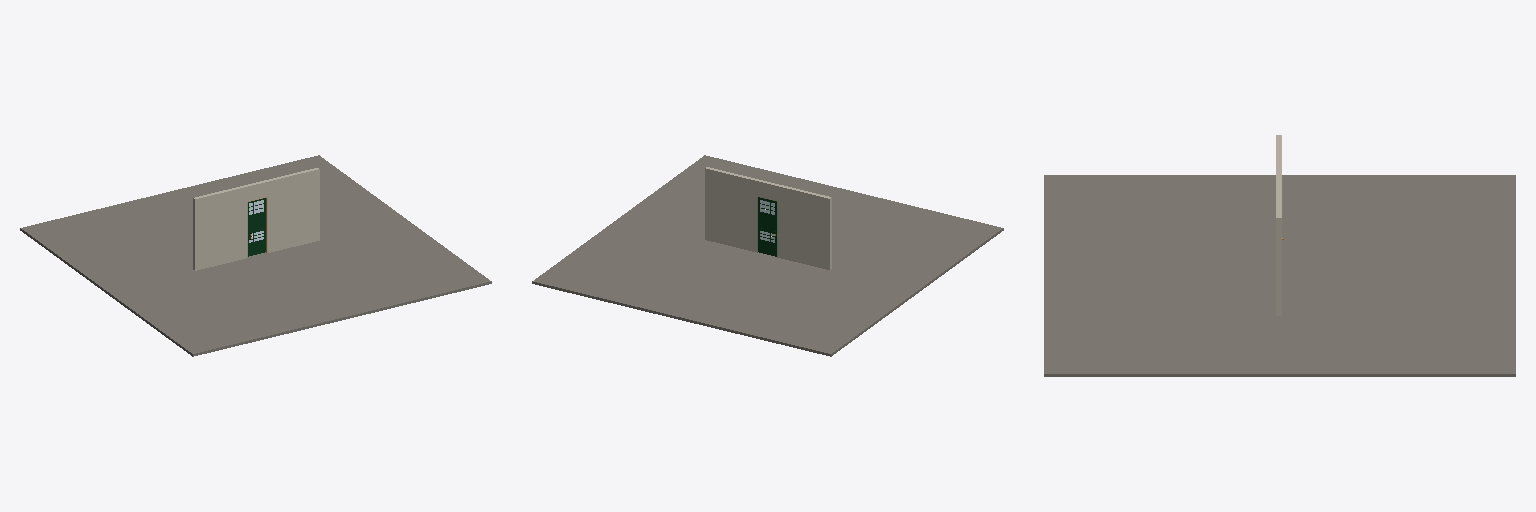
The robot description file, URDF, robot "db0906_dutch_minimal":
<?xml version="1.0" ?>
<robot xmlns:doorbench="https://github.com/adamraudonis/DoorBench/schema/urdf-ext" name="db0906_dutch_minimal">
  <link name="world_env">
    <visual name="floor_vis">
      <origin xyz="0 0 -0.05" rpy="0 0 0"/>
      <geometry>
        <box size="12 12 0.1"/>
      </geometry>
      <material name="mat_floor"/>
    </visual>
    <collision name="floor_col">
      <origin xyz="0 0 -0.05" rpy="0 0 0"/>
      <geometry>
        <box size="12 12 0.1"/>
      </geometry>
    </collision>
    <visual name="wall_left_vis">
      <origin xyz="-1.467 -0.0305 1.3735" rpy="0 0 0"/>
      <geometry>
        <box size="2.066 0.145 2.747"/>
      </geometry>
      <material name="mat_wall"/>
    </visual>
    <collision name="wall_left_col">
      <origin xyz="-1.467 -0.0305 1.3735" rpy="0 0 0"/>
      <geometry>
        <box size="2.066 0.145 2.747"/>
      </geometry>
    </collision>
    <visual name="wall_right_vis">
      <origin xyz="1.452 -0.0305 1.3735" rpy="0 0 0"/>
      <geometry>
        <box size="2.096 0.145 2.747"/>
      </geometry>
      <material name="mat_wall"/>
    </visual>
    <collision name="wall_right_col">
      <origin xyz="1.452 -0.0305 1.3735" rpy="0 0 0"/>
      <geometry>
        <box size="2.096 0.145 2.747"/>
      </geometry>
    </collision>
    <visual name="wall_header_vis">
      <origin xyz="-0.015 -0.0305 2.4715" rpy="0 0 0"/>
      <geometry>
        <box size="0.838 0.145 0.551"/>
      </geometry>
      <material name="mat_wall"/>
    </visual>
    <collision name="wall_header_col">
      <origin xyz="-0.015 -0.0305 2.4715" rpy="0 0 0"/>
      <geometry>
        <box size="0.838 0.145 0.551"/>
      </geometry>
    </collision>
    <visual name="jamb_hinge_vis">
      <origin xyz="0.3945 -0.0305 1.0735" rpy="0 0 0"/>
      <geometry>
        <box size="0.019 0.145 2.147"/>
      </geometry>
      <material name="mat_frame"/>
    </visual>
    <collision name="jamb_hinge_col">
      <origin xyz="0.3945 -0.0305 1.0735" rpy="0 0 0"/>
      <geometry>
        <box size="0.019 0.145 2.147"/>
      </geometry>
    </collision>
    <visual name="strike_840_wall_n_vis">
      <origin xyz="-0.4095 -0.055425 0.84" rpy="0 0 0"/>
      <geometry>
        <box size="0.049 0.09515 0.0334"/>
      </geometry>
      <material name="mat_frame"/>
    </visual>
    <collision name="strike_840_wall_n_col">
      <origin xyz="-0.4095 -0.055425 0.84" rpy="0 0 0"/>
      <geometry>
        <box size="0.049 0.09515 0.0334"/>
      </geometry>
    </collision>
    <visual name="strike_840_wall_p_vis">
      <origin xyz="-0.4095 0.01585 0.84" rpy="0 0 0"/>
      <geometry>
        <box size="0.049 0.016 0.0334"/>
      </geometry>
      <material name="mat_frame"/>
    </visual>
    <collision name="strike_840_wall_p_col">
      <origin xyz="-0.4095 0.01585 0.84" rpy="0 0 0"/>
      <geometry>
        <box size="0.049 0.016 0.0334"/>
      </geometry>
    </collision>
    <visual name="strike_840_ramp_vis">
      <origin xyz="-0.414908 0.034645 0.84" rpy="0 0 0.344766"/>
      <geometry>
        <box size="0.049 0.040535 0.0334"/>
      </geometry>
      <material name="mat_frame"/>
    </visual>
    <collision name="strike_840_ramp_col">
      <origin xyz="-0.414908 0.034645 0.84" rpy="0 0 0.344766"/>
      <geometry>
        <box size="0.049 0.040535 0.0334"/>
      </geometry>
    </collision>
    <visual name="strike_840_back_vis">
      <origin xyz="-0.41785 0 0.84" rpy="0 0 0"/>
      <geometry>
        <box size="0.0323 0.0157 0.0334"/>
      </geometry>
      <material name="mat_frame"/>
    </visual>
    <collision name="strike_840_back_col">
      <origin xyz="-0.41785 0 0.84" rpy="0 0 0"/>
      <geometry>
        <box size="0.0323 0.0157 0.0334"/>
      </geometry>
    </collision>
    <visual name="strike_1547_wall_n_vis">
      <origin xyz="-0.4095 -0.05525 1.547" rpy="0 0 0"/>
      <geometry>
        <box size="0.049 0.0955 0.02"/>
      </geometry>
      <material name="mat_frame"/>
    </visual>
    <collision name="strike_1547_wall_n_col">
      <origin xyz="-0.4095 -0.05525 1.547" rpy="0 0 0"/>
      <geometry>
        <box size="0.049 0.0955 0.02"/>
      </geometry>
    </collision>
    <visual name="strike_1547_wall_p_vis">
      <origin xyz="-0.4095 0.0155 1.547" rpy="0 0 0"/>
      <geometry>
        <box size="0.049 0.016 0.02"/>
      </geometry>
      <material name="mat_frame"/>
    </visual>
    <collision name="strike_1547_wall_p_col">
      <origin xyz="-0.4095 0.0155 1.547" rpy="0 0 0"/>
      <geometry>
        <box size="0.049 0.016 0.02"/>
      </geometry>
    </collision>
    <visual name="strike_1547_ramp_vis">
      <origin xyz="-0.411796 0.039595 1.547" rpy="0 0 0.129147"/>
      <geometry>
        <box size="0.049 0.038823 0.02"/>
      </geometry>
      <material name="mat_frame"/>
    </visual>
    <collision name="strike_1547_ramp_col">
      <origin xyz="-0.411796 0.039595 1.547" rpy="0 0 0.129147"/>
      <geometry>
        <box size="0.049 0.038823 0.02"/>
      </geometry>
    </collision>
    <visual name="strike_1547_ramp_n_vis">
      <origin xyz="-0.411796 -0.027595 1.547" rpy="0 0 -0.129147"/>
      <geometry>
        <box size="0.049 0.038823 0.02"/>
      </geometry>
      <material name="mat_frame"/>
    </visual>
    <collision name="strike_1547_ramp_n_col">
      <origin xyz="-0.411796 -0.027595 1.547" rpy="0 0 -0.129147"/>
      <geometry>
        <box size="0.049 0.038823 0.02"/>
      </geometry>
    </collision>
    <visual name="strike_1547_back_vis">
      <origin xyz="-0.4135 0 1.547" rpy="0 0 0"/>
      <geometry>
        <box size="0.041 0.015 0.02"/>
      </geometry>
      <material name="mat_frame"/>
    </visual>
    <collision name="strike_1547_back_col">
      <origin xyz="-0.4135 0 1.547" rpy="0 0 0"/>
      <geometry>
        <box size="0.041 0.015 0.02"/>
      </geometry>
    </collision>
    <visual name="jamb_strike_0_vis">
      <origin xyz="-0.4095 -0.0305 0.41165" rpy="0 0 0"/>
      <geometry>
        <box size="0.049 0.145 0.8233"/>
      </geometry>
      <material name="mat_frame"/>
    </visual>
    <collision name="jamb_strike_0_col">
      <origin xyz="-0.4095 -0.0305 0.41165" rpy="0 0 0"/>
      <geometry>
        <box size="0.049 0.145 0.8233"/>
      </geometry>
    </collision>
    <visual name="jamb_strike_1_vis">
      <origin xyz="-0.4095 -0.0305 1.19685" rpy="0 0 0"/>
      <geometry>
        <box size="0.049 0.145 0.6803"/>
      </geometry>
      <material name="mat_frame"/>
    </visual>
    <collision name="jamb_strike_1_col">
      <origin xyz="-0.4095 -0.0305 1.19685" rpy="0 0 0"/>
      <geometry>
        <box size="0.049 0.145 0.6803"/>
      </geometry>
    </collision>
    <visual name="jamb_strike_2_vis">
      <origin xyz="-0.4095 -0.0305 1.852" rpy="0 0 0"/>
      <geometry>
        <box size="0.049 0.145 0.59"/>
      </geometry>
      <material name="mat_frame"/>
    </visual>
    <collision name="jamb_strike_2_col">
      <origin xyz="-0.4095 -0.0305 1.852" rpy="0 0 0"/>
      <geometry>
        <box size="0.049 0.145 0.59"/>
      </geometry>
    </collision>
    <visual name="jamb_head_vis">
      <origin xyz="-0.015 -0.0305 2.1565" rpy="0 0 0"/>
      <geometry>
        <box size="0.838 0.145 0.019"/>
      </geometry>
      <material name="mat_frame"/>
    </visual>
    <collision name="jamb_head_col">
      <origin xyz="-0.015 -0.0305 2.1565" rpy="0 0 0"/>
      <geometry>
        <box size="0.838 0.145 0.019"/>
      </geometry>
    </collision>
    <visual name="head_stud_vis">
      <origin xyz="-0.015 -0.0305 2.181" rpy="0 0 0"/>
      <geometry>
        <box size="0.838 0.145 0.03"/>
      </geometry>
      <material name="mat_wall"/>
    </visual>
    <collision name="head_stud_col">
      <origin xyz="-0.015 -0.0305 2.181" rpy="0 0 0"/>
      <geometry>
        <box size="0.838 0.145 0.03"/>
      </geometry>
    </collision>
    <visual name="stop_hinge_vis">
      <origin xyz="0.3795 -0.0385 1.0735" rpy="0 0 0"/>
      <geometry>
        <box size="0.011 0.032 2.147"/>
      </geometry>
      <material name="mat_frame"/>
    </visual>
    <collision name="stop_hinge_col">
      <origin xyz="0.3795 -0.0385 1.0735" rpy="0 0 0"/>
      <geometry>
        <box size="0.011 0.032 2.147"/>
      </geometry>
    </collision>
    <visual name="stop_strike_vis">
      <origin xyz="-0.3795 -0.0385 1.0735" rpy="0 0 0"/>
      <geometry>
        <box size="0.011 0.032 2.147"/>
      </geometry>
      <material name="mat_frame"/>
    </visual>
    <collision name="stop_strike_col">
      <origin xyz="-0.3795 -0.0385 1.0735" rpy="0 0 0"/>
      <geometry>
        <box size="0.011 0.032 2.147"/>
      </geometry>
    </collision>
    <visual name="stop_head_vis">
      <origin xyz="0 -0.0385 2.1415" rpy="0 0 0"/>
      <geometry>
        <box size="0.77 0.032 0.011"/>
      </geometry>
      <material name="mat_frame"/>
    </visual>
    <collision name="stop_head_col">
      <origin xyz="0 -0.0385 2.1415" rpy="0 0 0"/>
      <geometry>
        <box size="0.77 0.032 0.011"/>
      </geometry>
    </collision>
  </link>
  <link name="leaf_lower">
    <inertial>
      <origin xyz="-0.646765 -0.077415 0.770389" rpy="0 0 0"/>
      <mass value="9.688186"/>
      <inertia ixx="0.116427819" ixy="-0.004800581" ixz="0.024746982" iyy="0.15487624" iyz="0.00450822" izz="0.052817034"/>
    </inertial>
    <visual name="leaf_lower_slab_vis">
      <origin xyz="-0.381 -0.029 0.484" rpy="0 0 0"/>
      <geometry>
        <box size="0.762 0.044 0.944"/>
      </geometry>
      <material name="mat_leaf_lower"/>
    </visual>
    <collision name="leaf_lower_slab_col">
      <origin xyz="-0.381 -0.029 0.484" rpy="0 0 0"/>
      <geometry>
        <box size="0.762 0.044 0.944"/>
      </geometry>
    </collision>
    <visual name="leaf_lower_glass_0_vis">
      <origin xyz="-0.177 -0.029 0.575167" rpy="0 0 0"/>
      <geometry>
        <box size="0.174 0.0456 0.092333"/>
      </geometry>
      <material name="mat_glass"/>
    </visual>
    <visual name="leaf_lower_glass_1_vis">
      <origin xyz="-0.381 -0.029 0.575167" rpy="0 0 0"/>
      <geometry>
        <box size="0.174 0.0456 0.092333"/>
      </geometry>
      <material name="mat_glass"/>
    </visual>
    <visual name="leaf_lower_glass_2_vis">
      <origin xyz="-0.585 -0.029 0.575167" rpy="0 0 0"/>
      <geometry>
        <box size="0.174 0.0456 0.092333"/>
      </geometry>
      <material name="mat_glass"/>
    </visual>
    <visual name="leaf_lower_glass_3_vis">
      <origin xyz="-0.177 -0.029 0.6975" rpy="0 0 0"/>
      <geometry>
        <box size="0.174 0.0456 0.092333"/>
      </geometry>
      <material name="mat_glass"/>
    </visual>
    <visual name="leaf_lower_glass_4_vis">
      <origin xyz="-0.381 -0.029 0.6975" rpy="0 0 0"/>
      <geometry>
        <box size="0.174 0.0456 0.092333"/>
      </geometry>
      <material name="mat_glass"/>
    </visual>
    <visual name="leaf_lower_glass_5_vis">
      <origin xyz="-0.585 -0.029 0.6975" rpy="0 0 0"/>
      <geometry>
        <box size="0.174 0.0456 0.092333"/>
      </geometry>
      <material name="mat_glass"/>
    </visual>
    <visual name="leaf_lower_glass_6_vis">
      <origin xyz="-0.177 -0.029 0.819833" rpy="0 0 0"/>
      <geometry>
        <box size="0.174 0.0456 0.092333"/>
      </geometry>
      <material name="mat_glass"/>
    </visual>
    <visual name="leaf_lower_glass_7_vis">
      <origin xyz="-0.381 -0.029 0.819833" rpy="0 0 0"/>
      <geometry>
        <box size="0.174 0.0456 0.092333"/>
      </geometry>
      <material name="mat_glass"/>
    </visual>
    <visual name="leaf_lower_glass_8_vis">
      <origin xyz="-0.585 -0.029 0.819833" rpy="0 0 0"/>
      <geometry>
        <box size="0.174 0.0456 0.092333"/>
      </geometry>
      <material name="mat_glass"/>
    </visual>
    <visual name="lower_handleset_n_vis">
      <origin xyz="-0.657 -0.051 0.78" rpy="1.570796 0 0"/>
      <geometry>
        <mesh filename="../../hardware/handleset_beb5526ad2.obj"/>
      </geometry>
      <material name="mat_op_bronze"/>
    </visual>
    <collision name="lower_handleset_col_n_col">
      <origin xyz="-0.657 -0.111 0.78" rpy="0 0 0"/>
      <geometry>
        <cylinder radius="0.011" length="0.18"/>
      </geometry>
    </collision>
  </link>
  <link name="leaf_upper">
    <inertial>
      <origin xyz="-0.381 -0.029 1.600668" rpy="0 0 0"/>
      <mass value="12.177372"/>
      <inertia ixx="1.305719445" ixy="0" ixz="0" iyy="1.850728325" iyz="0" izz="0.548993791"/>
    </inertial>
    <visual name="leaf_upper_slab_vis">
      <origin xyz="-0.381 -0.029 1.549" rpy="0 0 0"/>
      <geometry>
        <box size="0.762 0.044 1.17"/>
      </geometry>
      <material name="mat_leaf_upper"/>
    </visual>
    <collision name="leaf_upper_slab_col">
      <origin xyz="-0.381 -0.029 1.549" rpy="0 0 0"/>
      <geometry>
        <box size="0.762 0.044 1.17"/>
      </geometry>
    </collision>
    <visual name="leaf_upper_glass_0_vis">
      <origin xyz="-0.177 -0.029 1.659" rpy="0 0 0"/>
      <geometry>
        <box size="0.174 0.0456 0.13"/>
      </geometry>
      <material name="mat_glass"/>
    </visual>
    <visual name="leaf_upper_glass_1_vis">
      <origin xyz="-0.381 -0.029 1.659" rpy="0 0 0"/>
      <geometry>
        <box size="0.174 0.0456 0.13"/>
      </geometry>
      <material name="mat_glass"/>
    </visual>
    <visual name="leaf_upper_glass_2_vis">
      <origin xyz="-0.585 -0.029 1.659" rpy="0 0 0"/>
      <geometry>
        <box size="0.174 0.0456 0.13"/>
      </geometry>
      <material name="mat_glass"/>
    </visual>
    <visual name="leaf_upper_glass_3_vis">
      <origin xyz="-0.177 -0.029 1.819" rpy="0 0 0"/>
      <geometry>
        <box size="0.174 0.0456 0.13"/>
      </geometry>
      <material name="mat_glass"/>
    </visual>
    <visual name="leaf_upper_glass_4_vis">
      <origin xyz="-0.381 -0.029 1.819" rpy="0 0 0"/>
      <geometry>
        <box size="0.174 0.0456 0.13"/>
      </geometry>
      <material name="mat_glass"/>
    </visual>
    <visual name="leaf_upper_glass_5_vis">
      <origin xyz="-0.585 -0.029 1.819" rpy="0 0 0"/>
      <geometry>
        <box size="0.174 0.0456 0.13"/>
      </geometry>
      <material name="mat_glass"/>
    </visual>
    <visual name="leaf_upper_glass_6_vis">
      <origin xyz="-0.177 -0.029 1.979" rpy="0 0 0"/>
      <geometry>
        <box size="0.174 0.0456 0.13"/>
      </geometry>
      <material name="mat_glass"/>
    </visual>
    <visual name="leaf_upper_glass_7_vis">
      <origin xyz="-0.381 -0.029 1.979" rpy="0 0 0"/>
      <geometry>
        <box size="0.174 0.0456 0.13"/>
      </geometry>
      <material name="mat_glass"/>
    </visual>
    <visual name="leaf_upper_glass_8_vis">
      <origin xyz="-0.585 -0.029 1.979" rpy="0 0 0"/>
      <geometry>
        <box size="0.174 0.0456 0.13"/>
      </geometry>
      <material name="mat_glass"/>
    </visual>
  </link>
  <link name="lower_handle">
    <inertial>
      <origin xyz="0 0.058082 0" rpy="0 0 0"/>
      <mass value="0.549341"/>
      <inertia ixx="0.000270874" ixy="0" ixz="0" iyy="0.000155778" iyz="0" izz="0.000270874"/>
    </inertial>
    <visual name="lower_handle_knob_p_vis">
      <origin xyz="0 0.022 0" rpy="1.570796 0 3.141593"/>
      <geometry>
        <mesh filename="../../hardware/knob_d1888f6f03.obj"/>
      </geometry>
      <material name="mat_op_brass"/>
    </visual>
    <visual name="lower_handle_knob_col_p_vis">
      <origin xyz="0 0.0685 0" rpy="0 0 0"/>
      <geometry>
        <sphere radius="0.0243"/>
      </geometry>
      <material name="mat_op_brass"/>
    </visual>
    <collision name="lower_handle_knob_col_p_col">
      <origin xyz="0 0.0685 0" rpy="0 0 0"/>
      <geometry>
        <sphere radius="0.0243"/>
      </geometry>
    </collision>
    <collision name="lower_handle_knob_neck_p_col">
      <origin xyz="0 0.034 0" rpy="-1.570796 0 0"/>
      <geometry>
        <cylinder radius="0.011" length="0.024"/>
      </geometry>
    </collision>
  </link>
  <link name="lower_latch_bolt">
    <inertial>
      <origin xyz="0.00865 0 0" rpy="0 0 0"/>
      <mass value="0.041419"/>
      <inertia ixx="0.000000798" ixy="0" ixz="0" iyy="0.000005598" iyz="0" izz="0.000005598"/>
    </inertial>
    <visual name="lower_latch_bolt_capsule_vis">
      <origin xyz="0.00865 0 0" rpy="0 -1.570796 0"/>
      <geometry>
        <cylinder radius="0.00635" length="0.03"/>
      </geometry>
      <material name="mat_bolt"/>
    </visual>
    <collision name="lower_latch_bolt_capsule_col">
      <origin xyz="0.00865 0 0" rpy="0 -1.570796 0"/>
      <geometry>
        <cylinder radius="0.00635" length="0.03"/>
      </geometry>
    </collision>
  </link>
  <joint name="leaf_lower_hinge" type="revolute">
    <origin xyz="0.382 0.029 0" rpy="0 0 0"/>
    <parent link="world_env"/>
    <child link="leaf_lower"/>
    <axis xyz="0 0 -1"/>
    <limit lower="0" upper="1.745329" effort="2000" velocity="10"/>
    <dynamics damping="0.179937" friction="0.201087"/>
    <doorbench:closer damping_closing="0" damping_opening="0" backcheck_angle="0" backcheck_damping="0"/>
  </joint>
  <joint name="leaf_upper_hinge" type="revolute">
    <origin xyz="0.382 0.029 0" rpy="0 0 0"/>
    <parent link="world_env"/>
    <child link="leaf_upper"/>
    <axis xyz="0 0 -1"/>
    <limit lower="0" upper="1.745329" effort="2000" velocity="10"/>
    <dynamics damping="0.179937" friction="0.201087"/>
    <doorbench:closer damping_closing="0" damping_opening="0" backcheck_angle="0" backcheck_damping="0"/>
  </joint>
  <joint name="lower_handle_hinge" type="revolute">
    <origin xyz="-0.692 -0.029 0.84" rpy="0 0 0"/>
    <parent link="leaf_lower"/>
    <child link="lower_handle"/>
    <axis xyz="0 1 0"/>
    <limit lower="0" upper="0.87" effort="2000" velocity="10"/>
    <dynamics damping="0.142525" friction="0.038"/>
    <doorbench:spring stiffness="0.5" springref="-0.5" note="tau = -stiffness*(q - springref); not native URDF"/>
  </joint>
  <joint name="lower_latch_bolt_slide" type="prismatic">
    <origin xyz="-0.762 -0.029 0.84" rpy="0 0 0"/>
    <parent link="leaf_lower"/>
    <child link="lower_latch_bolt"/>
    <axis xyz="1 0 0"/>
    <limit lower="0" upper="0.0127" effort="5000" velocity="10"/>
    <dynamics damping="2" friction="0.3"/>
    <doorbench:spring stiffness="300" springref="-0.008333" note="tau = -stiffness*(q - springref); not native URDF"/>
    <mimic joint="lower_handle_hinge" multiplier="0.039688" offset="0"/>
    <doorbench:coupling one_sided="true" note="MJCF uses a one-sided tendon (bolt may retract further, e.g. riding over the strike lip); mimic is bilateral"/>
  </joint>
  <material name="mat_bolt">
    <color rgba="0.85 0.66 0.3 1"/>
  </material>
  <material name="mat_floor">
    <color rgba="0.55 0.53 0.5 1"/>
  </material>
  <material name="mat_frame">
    <color rgba="0.82 0.7 0.5 1"/>
  </material>
  <material name="mat_glass">
    <color rgba="0.85 0.92 0.95 0.25"/>
  </material>
  <material name="mat_leaf_lower">
    <color rgba="0.1 0.28 0.16 1"/>
  </material>
  <material name="mat_leaf_upper">
    <color rgba="0.1 0.28 0.16 1"/>
  </material>
  <material name="mat_op_brass">
    <color rgba="0.85 0.66 0.3 1"/>
  </material>
  <material name="mat_op_bronze">
    <color rgba="0.3 0.22 0.15 1"/>
  </material>
  <material name="mat_wall">
    <color rgba="0.78 0.76 0.7 1"/>
  </material>
</robot>

--- What the picture shows (computed from the rendered views, not written in the file) ---
The picture shows the robot from 3 angles, left to right: view 1: azimuth 30°, elevation 25°; view 2: azimuth 150°, elevation 25°; view 3: azimuth 270°, elevation 25°; orthographic projection.
Model db0906_dutch_minimal with 5 links and 4 joints (3 revolute, 1 prismatic), rooted at world_env, posed every joint at zero.
Visible links, largest first — view 1: world_env, leaf_upper; view 2: world_env, leaf_upper; view 3: world_env.
Boxes of the visible links, bbox=[...] form: world_env: bbox=[20, 155, 491, 356]; leaf_upper: bbox=[248, 198, 265, 231]; world_env: bbox=[532, 155, 1003, 356]; leaf_upper: bbox=[758, 197, 776, 231]; world_env: bbox=[1044, 135, 1515, 376].
Bounding box of the posed robot: 12 × 12 × 2.85 m (x, y, z).
Meshes: 2 distinct files referenced, 2 mesh visuals loaded (2 OBJ).
